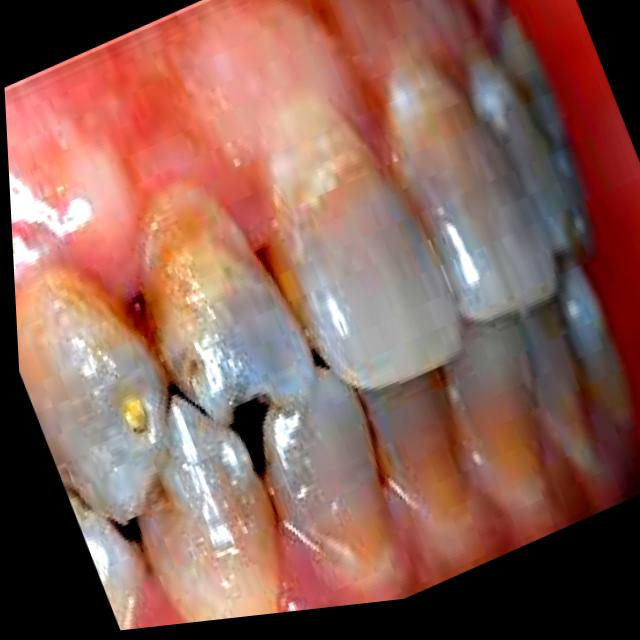tooth-discoloration: (268, 103, 458, 388), (385, 56, 553, 319), (142, 183, 312, 420), (15, 266, 166, 522), (445, 296, 607, 531), (139, 397, 278, 623), (262, 367, 392, 584), (471, 59, 571, 253), (360, 370, 471, 540), (559, 262, 632, 434)
